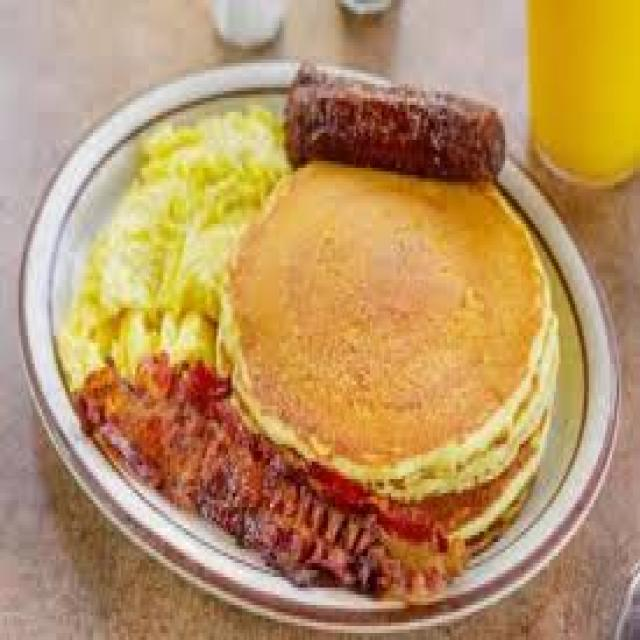Omelette: (56, 98, 277, 364)
Pancakes: (221, 157, 554, 538)
